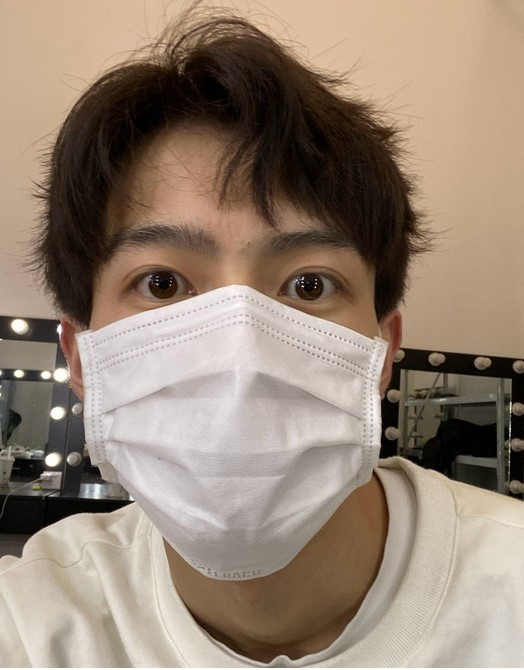face_with_mask: (51, 37, 413, 588)
